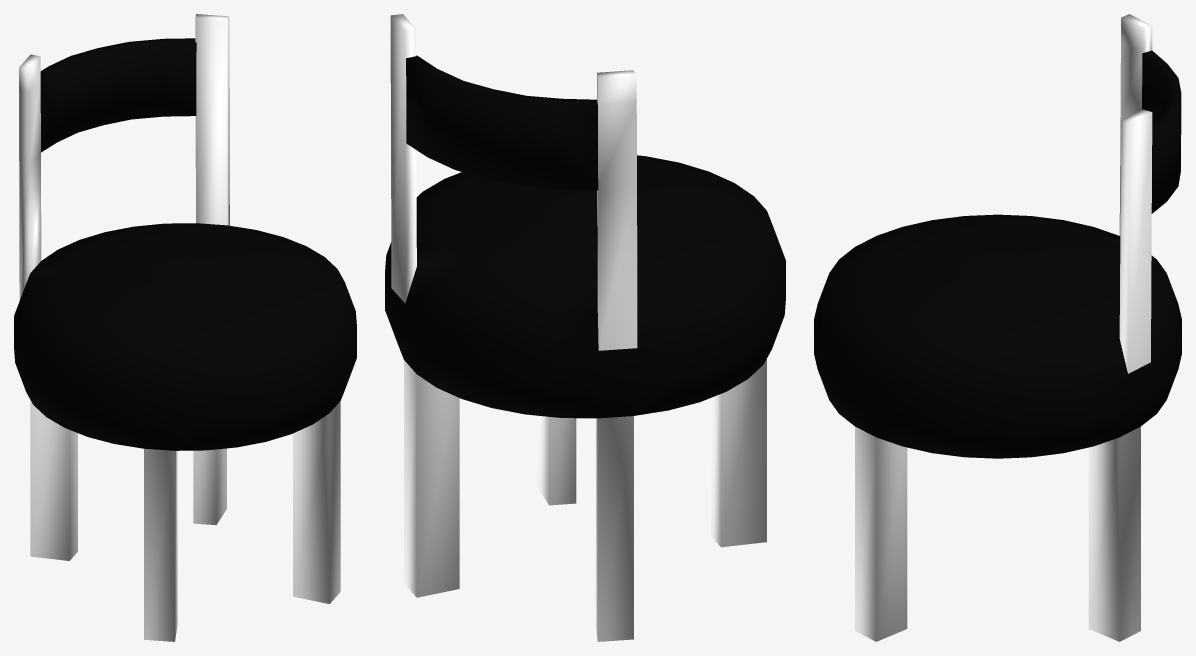
File: Chair.fbx
The picture shows the model from 3 angles, left to right: view 1: azimuth 30°, elevation 25°; view 2: azimuth 150°, elevation 25°; view 3: azimuth 270°, elevation 25°; orthographic projection. The views are drawn at different scales.
Visible parts, largest first — view 1: Circle; view 2: Circle; view 3: Circle.
Part boxes in pixels (x1,y1,x2,y2): Circle: (14,14,356,641); Circle: (385,14,785,641); Circle: (814,14,1181,641).
Bounding box in the file's own units: 32.99 × 51.62 × 32.99.
